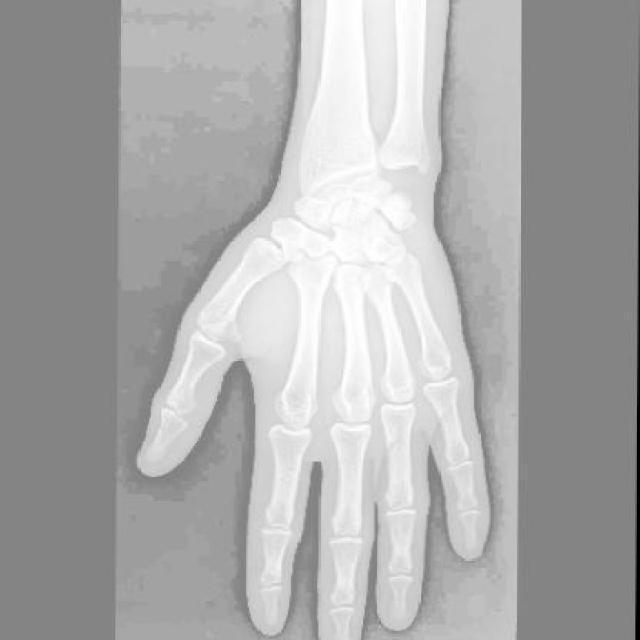Fracture: (333, 210, 367, 259)
